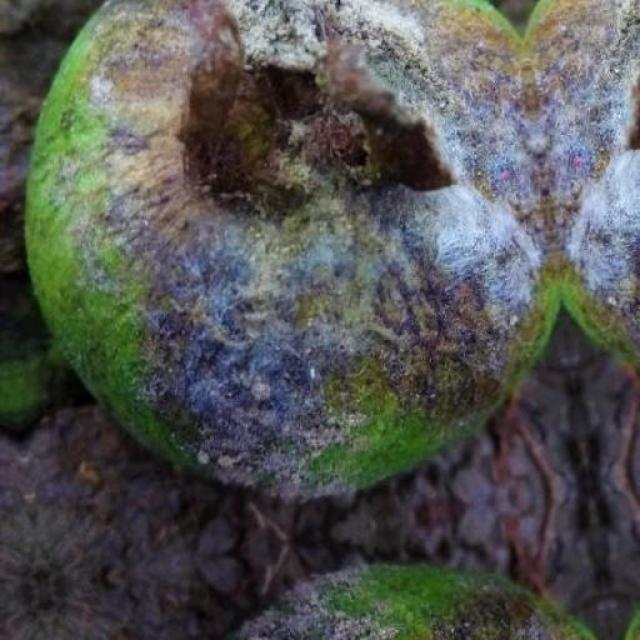Phytopthora: (28, 0, 640, 496)
